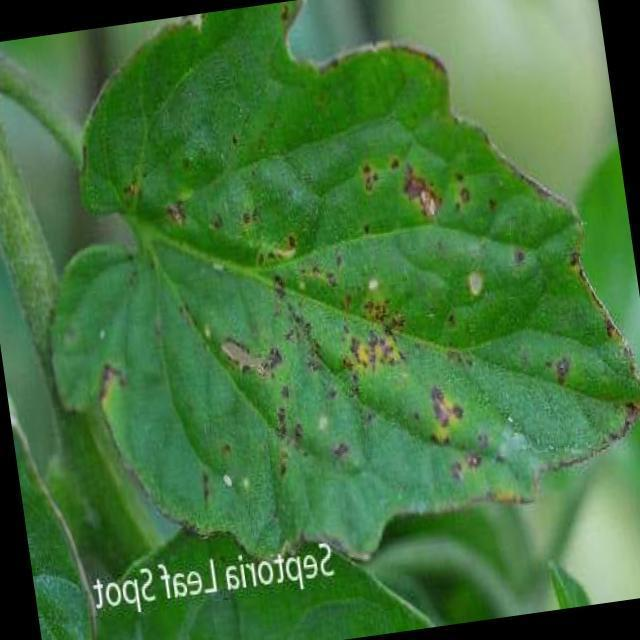Bacterial Spot: (102, 102, 582, 540)
